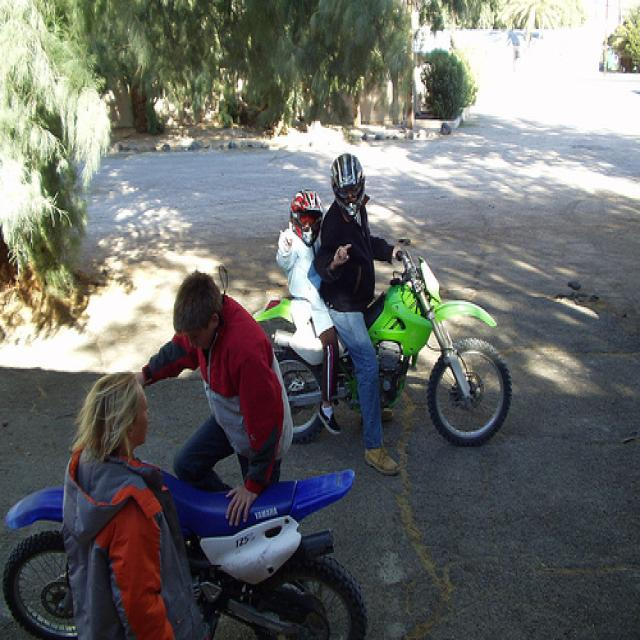motorbike: (1, 467, 366, 639), (255, 250, 515, 448)
person: (138, 269, 294, 533), (61, 370, 210, 639), (324, 153, 408, 482), (277, 191, 346, 437)
